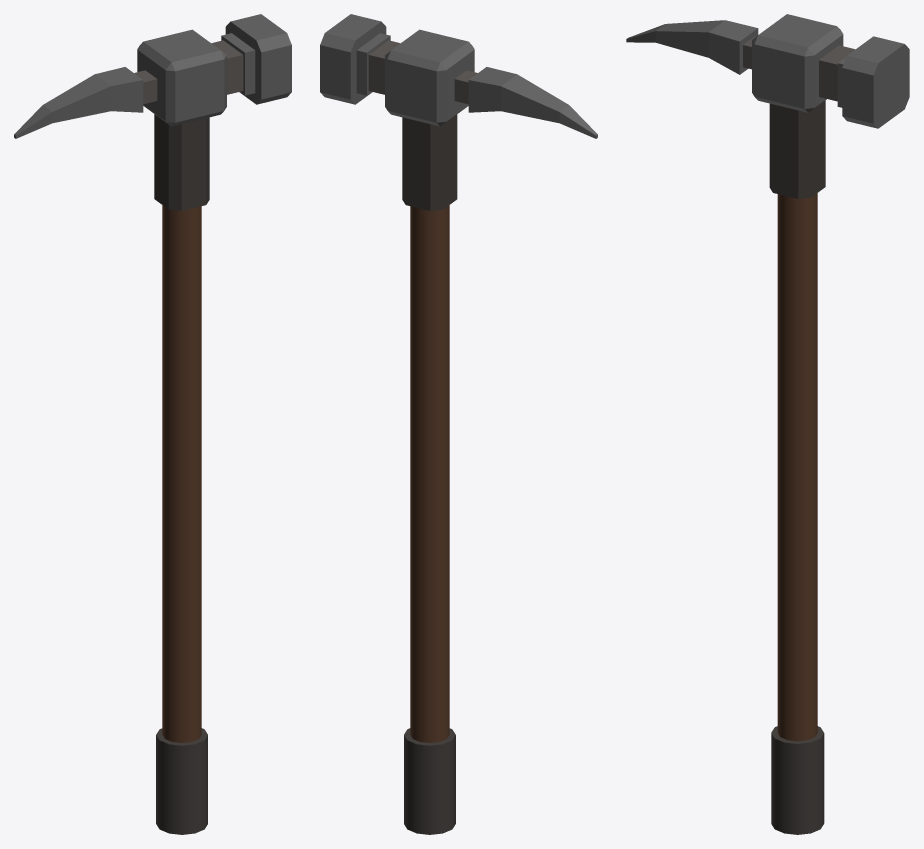
The model's file is War Hammer.glb.
The picture shows the model from 3 angles, left to right: view 1: azimuth 30°, elevation 25°; view 2: azimuth 150°, elevation 25°; view 3: azimuth 330°, elevation 25°; orthographic projection.
Visible parts, largest first — view 1: War Hammer; view 2: War Hammer; view 3: War Hammer.
Boxes of the visible parts, box(x1,y1,x2,y2) form: War Hammer: box(14, 14, 291, 834); War Hammer: box(320, 14, 597, 834); War Hammer: box(626, 14, 909, 834).
Size of the model in its own units: 0.304 by 0.872 by 0.072.
Materials: 1 (1 with a texture image).
